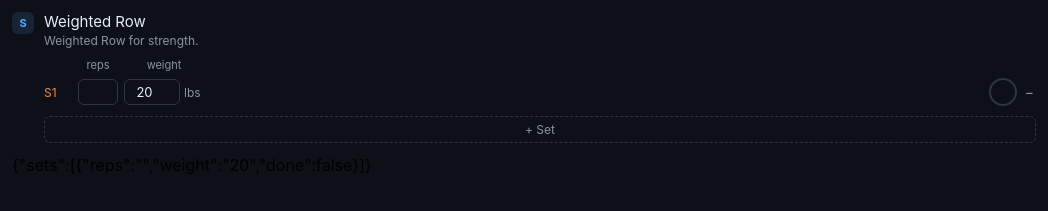
Test: a weight-tracked set also requires reps before completion
This screenshot has width=1048, height=211.
Click the button titled "Set 1: tap to toggle done": (1003, 92) [989, 78, 1017, 106]
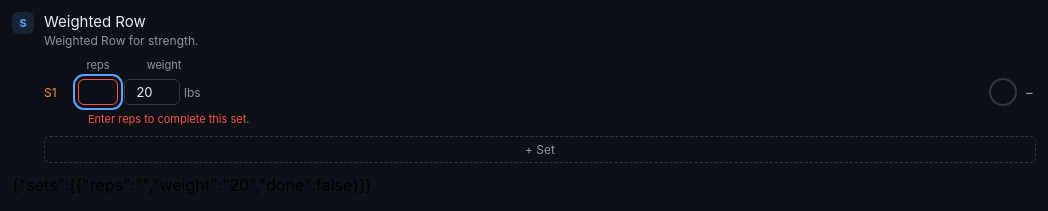
Result: the message shows "Enter reps" at [88, 112, 249, 126]
